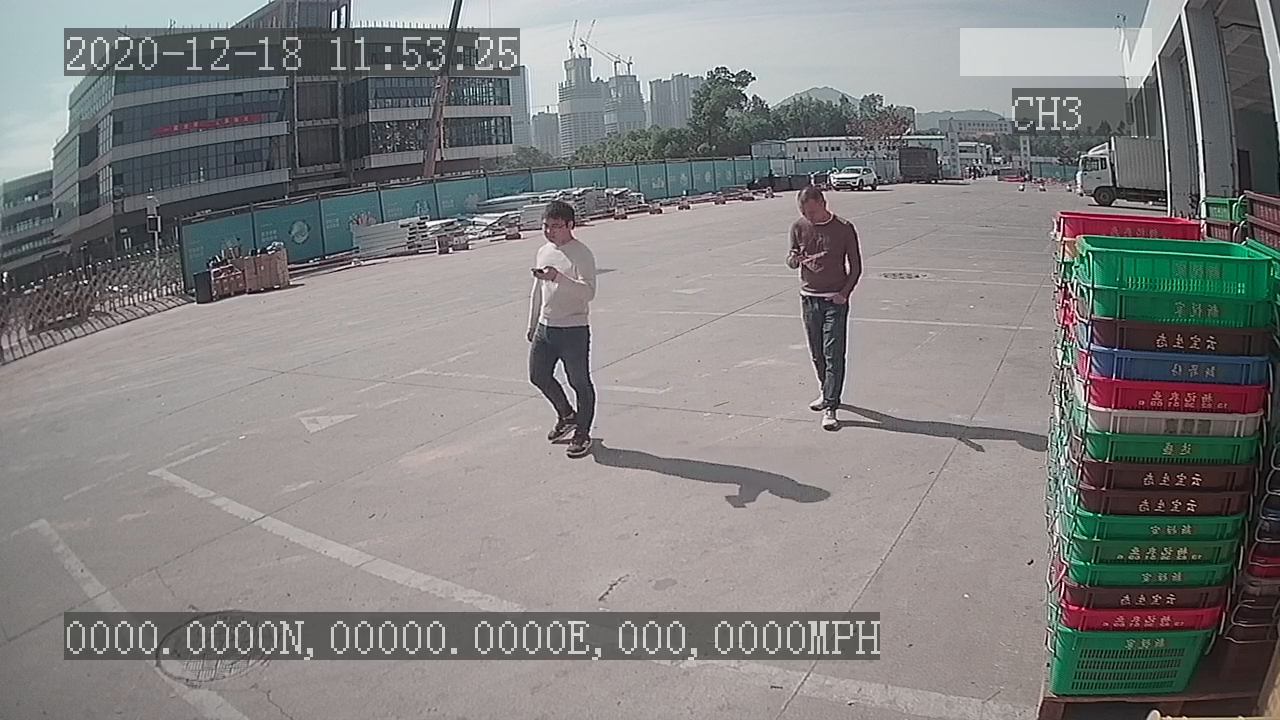person: (777, 172, 870, 433), (517, 192, 604, 467)
